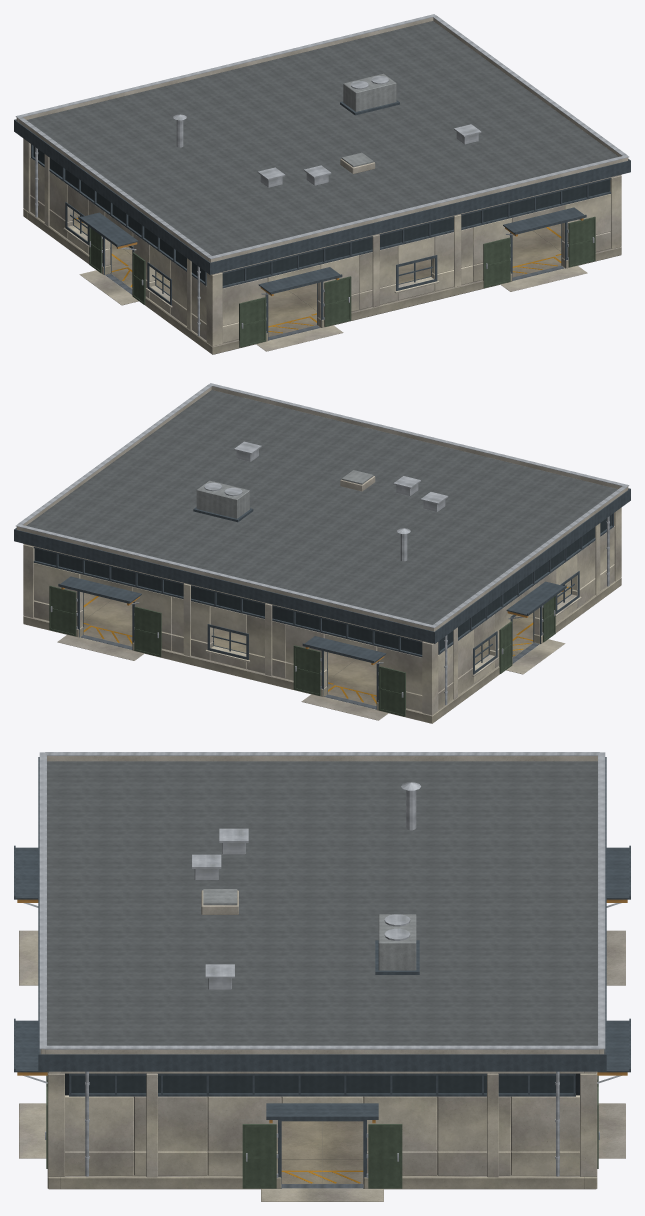
Rendered from warehouse.glb.
3 views of the same model, one above another, from view 1: azimuth 30°, elevation 25°; view 2: azimuth 150°, elevation 25°; view 3: azimuth 270°, elevation 25° (orthographic). The views are drawn at different scales.
Parts seen in each view (by area): view 1: PaintedMetal, Concrete, NS_PaintedMetal, NS_BareMetal, BareMetal; view 2: PaintedMetal, Concrete, NS_PaintedMetal, NS_BareMetal, BareMetal; view 3: PaintedMetal, Concrete, NS_PaintedMetal, NS_BareMetal, BareMetal.
Boxes of the visible parts, box(x1,y1,x2,y2) form: PaintedMetal: box(27, 21, 618, 347); Concrete: box(16, 17, 628, 354); NS_PaintedMetal: box(14, 100, 630, 347); NS_BareMetal: box(15, 14, 628, 340); BareMetal: box(173, 114, 481, 187); PaintedMetal: box(26, 390, 617, 716); Concrete: box(16, 386, 628, 723); NS_PaintedMetal: box(14, 488, 630, 716); NS_BareMetal: box(16, 383, 629, 709); BareMetal: box(234, 441, 448, 561); PaintedMetal: box(14, 761, 630, 1185); Concrete: box(19, 756, 625, 1201); NS_PaintedMetal: box(38, 757, 606, 1188); NS_BareMetal: box(23, 752, 621, 1188); BareMetal: box(192, 782, 420, 989).
Bounding box in the file's own units: 22.1 × 5.92 × 18.1.
Materials: 5 (4 with a texture image).
